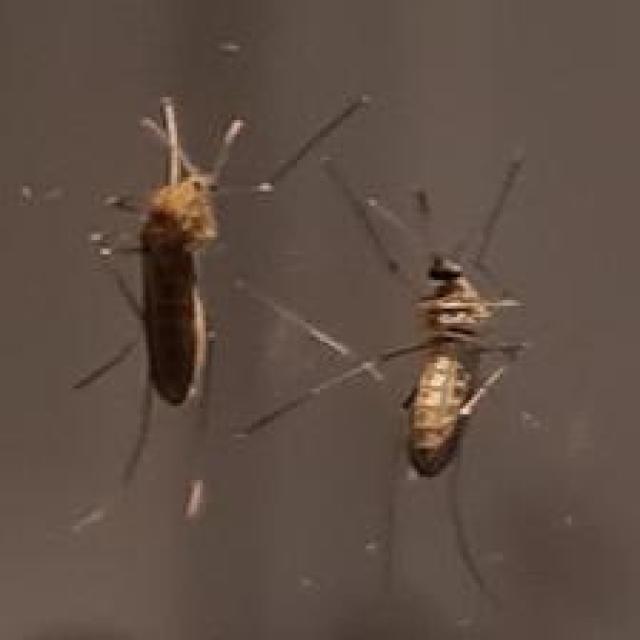Culex: (70, 90, 373, 490)
